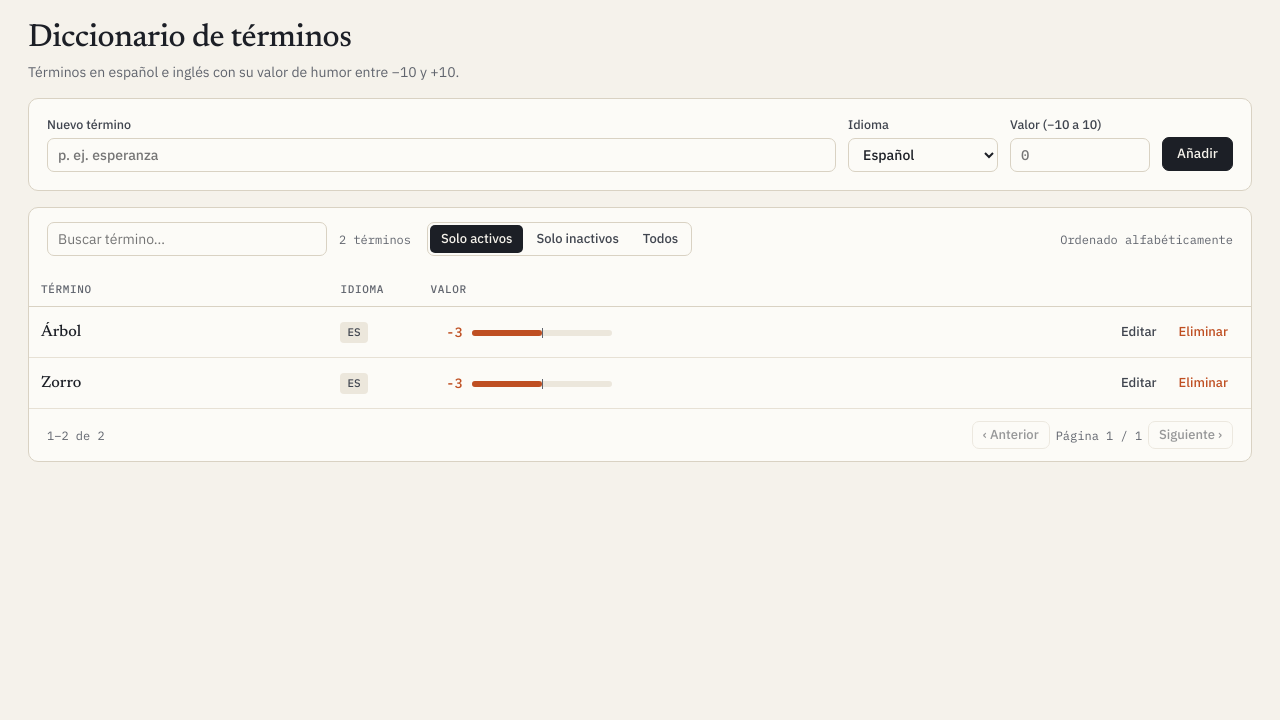
Test: DictionaryPage › keeps a logically deleted term visible in inactive and all views
Click the button with aria-label "Eliminar Zorro".
click(1203, 383)  # box [1168,369,1239,397]
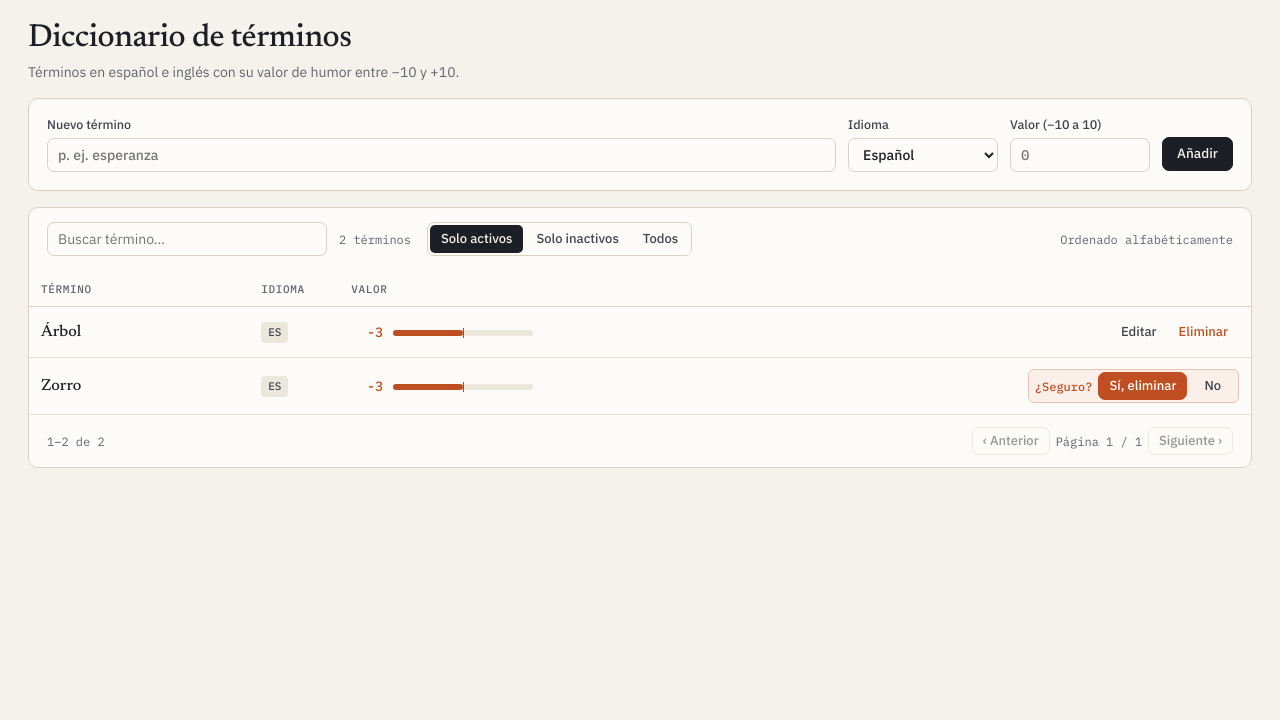
Click the button "Sí, eliminar".
click(1143, 386)  # box [1098,372,1187,400]
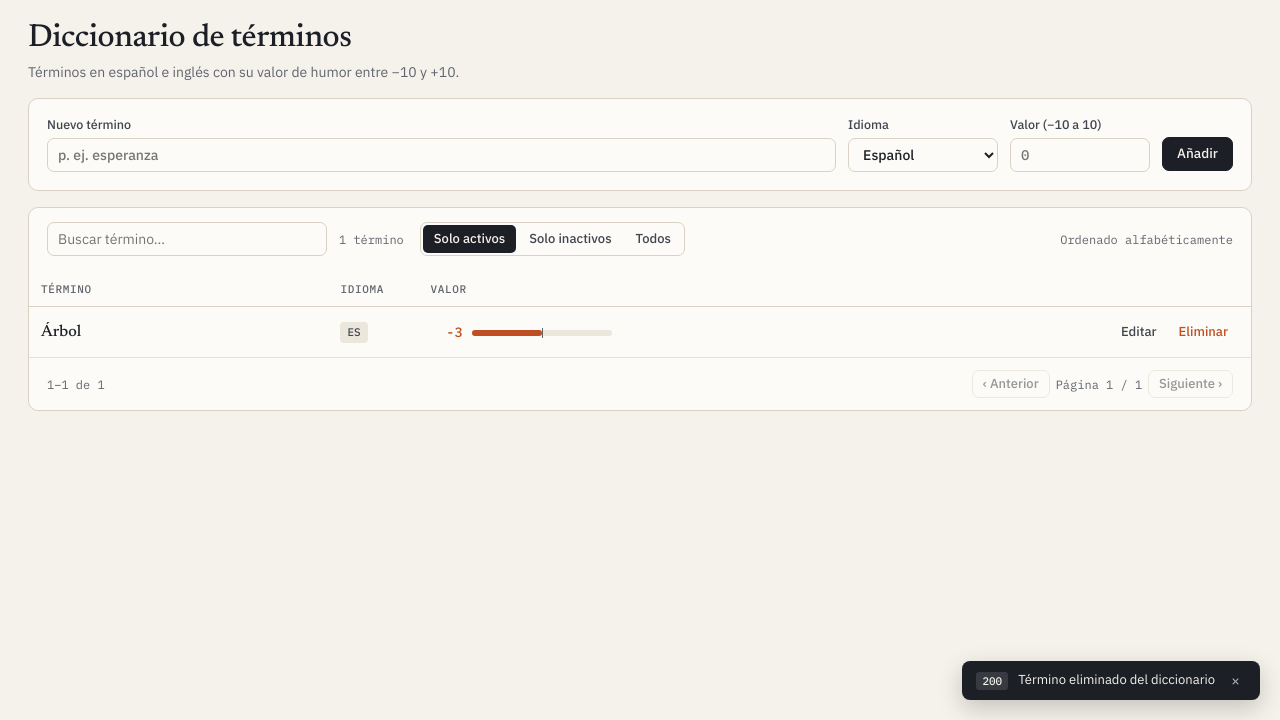
Click the button "Solo inactivos".
click(570, 239)  # box [518,225,623,253]
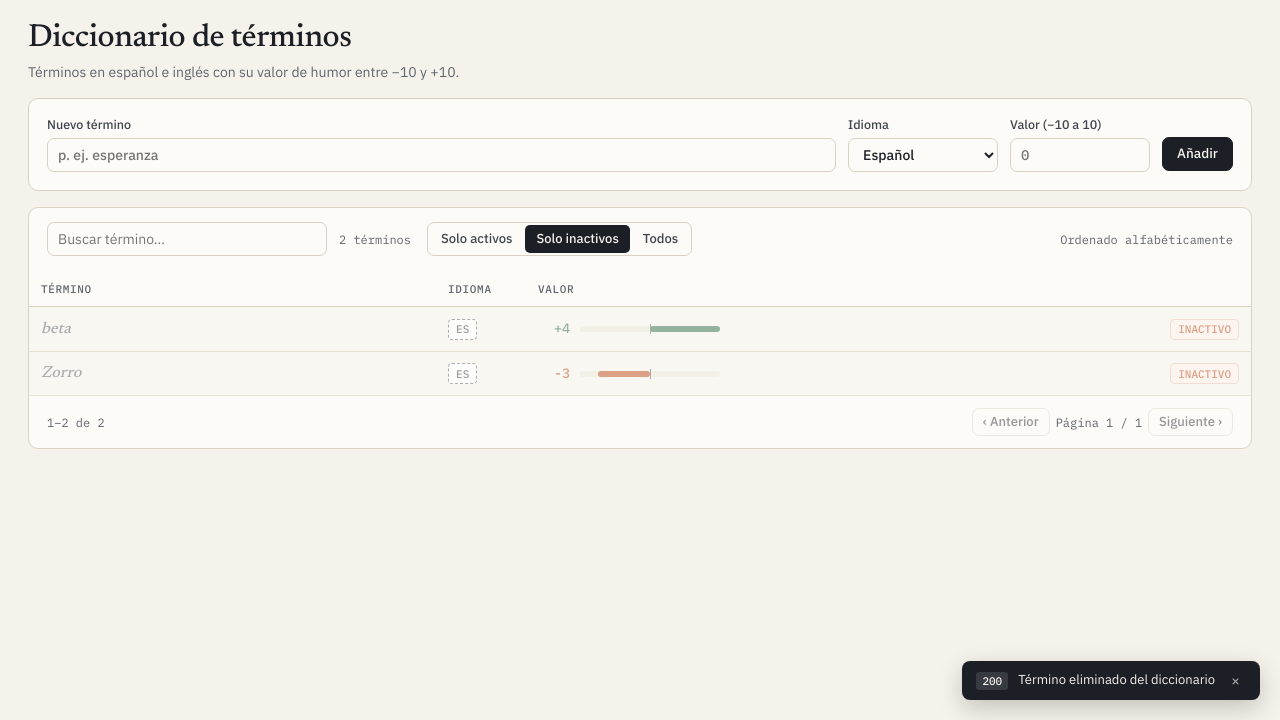
Now the text "Zorro" is shown, box [41,365,81,381]
